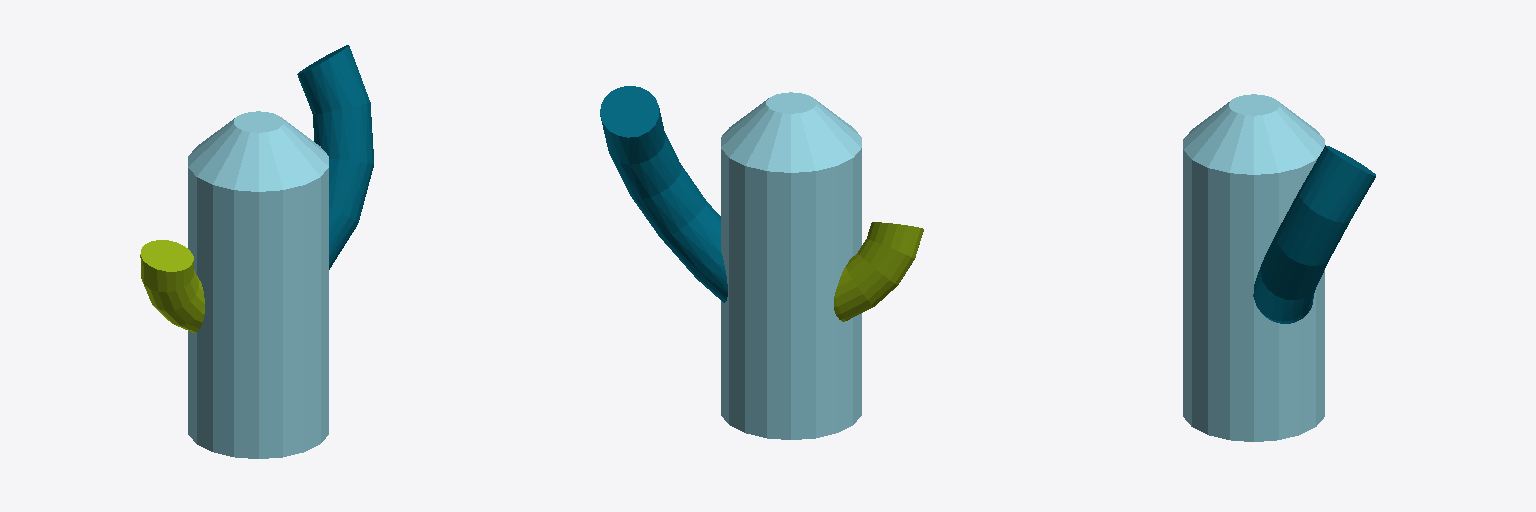
Rendered from cactus.obj.
The picture shows the model from 3 angles: view 1: azimuth 30°, elevation 25°; view 2: azimuth 150°, elevation 25°; view 3: azimuth 270°, elevation 25°; orthographic projection.
Visible parts, largest first — view 1: Cylinder001, Cylinder003, Cylinder002; view 2: Cylinder001, Cylinder003, Cylinder002; view 3: Cylinder001, Cylinder003.
Boxes of the visible parts, x1=… form: Cylinder001: x1=188, y1=111, x2=328, y2=458; Cylinder003: x1=297, y1=45, x2=373, y2=269; Cylinder002: x1=140, y1=240, x2=204, y2=332; Cylinder001: x1=721, y1=92, x2=861, y2=439; Cylinder003: x1=600, y1=86, x2=727, y2=302; Cylinder002: x1=834, y1=222, x2=923, y2=321; Cylinder001: x1=1183, y1=94, x2=1324, y2=441; Cylinder003: x1=1253, y1=145, x2=1375, y2=323.
Size of the model in its own units: 11.13 by 12.74 by 6.93.